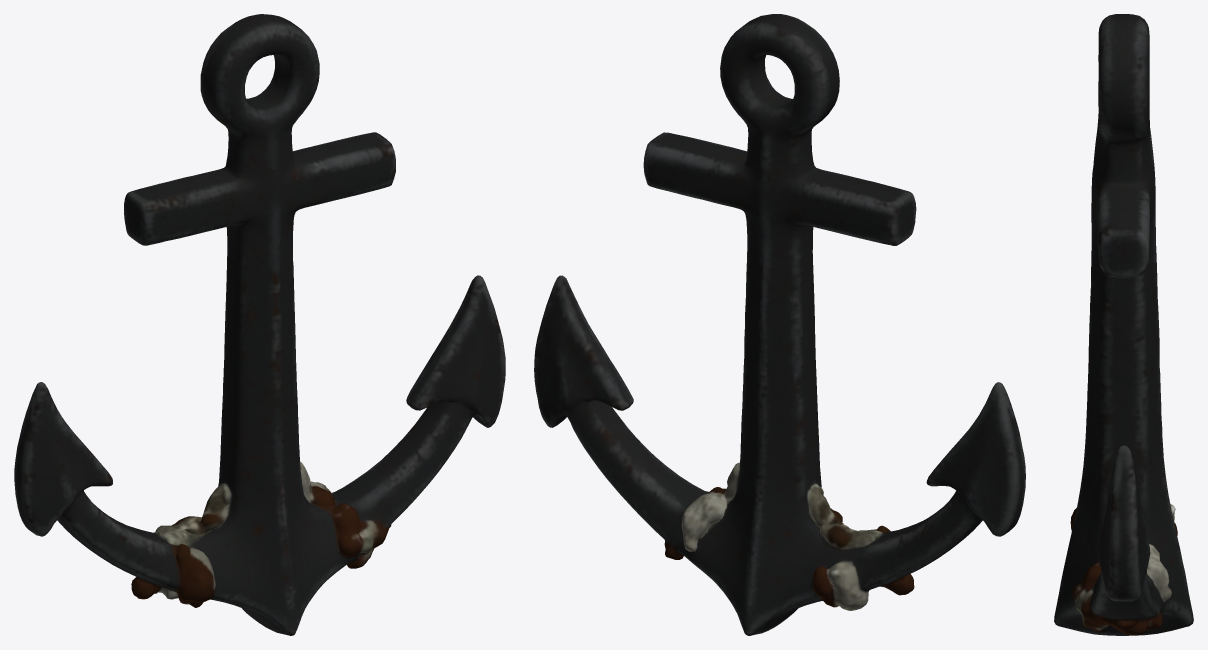
Rendered from rusty_pirate_anchor.glb.
The picture shows the model from 3 angles, left to right: view 1: azimuth 30°, elevation 25°; view 2: azimuth 150°, elevation 25°; view 3: azimuth 270°, elevation 25°; orthographic projection. The views are drawn at different scales.
Visible parts, largest first — view 1: world; view 2: world; view 3: world.
Boxes of the visible parts, x1,y1,x2,y2 form: world: (14, 14, 505, 635); world: (534, 14, 1025, 635); world: (1054, 14, 1193, 635).
Size of the model in its own units: 0.8454 by 1 by 0.2069.
1 material, 1 textured.
